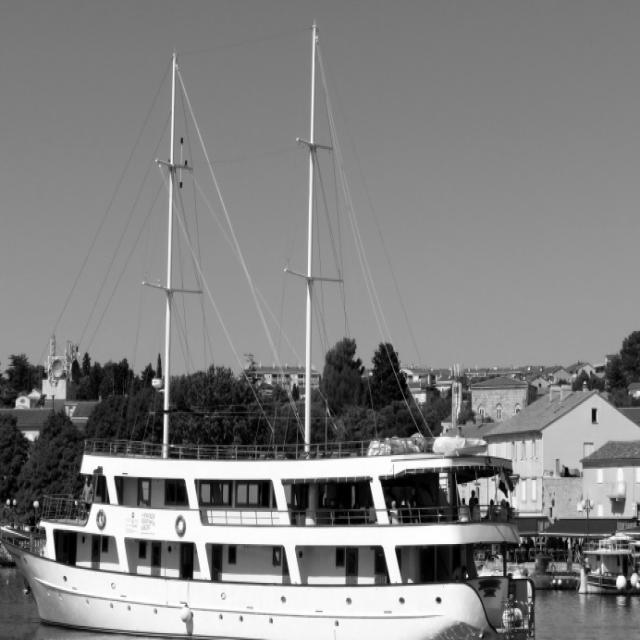cruises: (7, 435, 543, 640)
